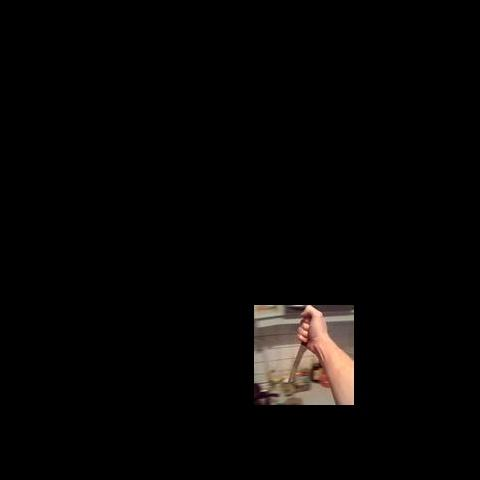knife: (289, 341, 308, 382)
